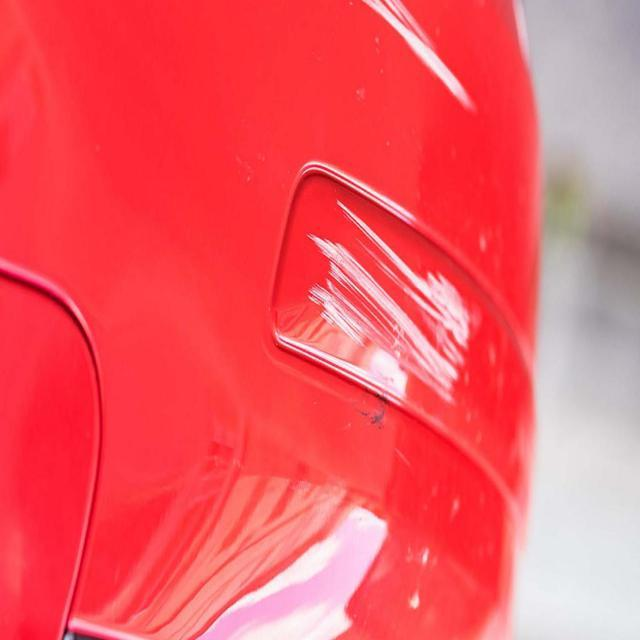scratch: (304, 186, 488, 424)
